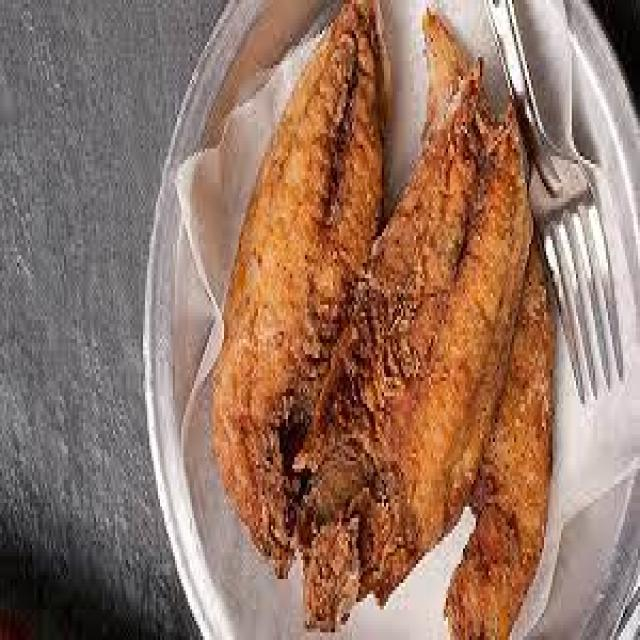Peixe: (207, 0, 557, 632)
